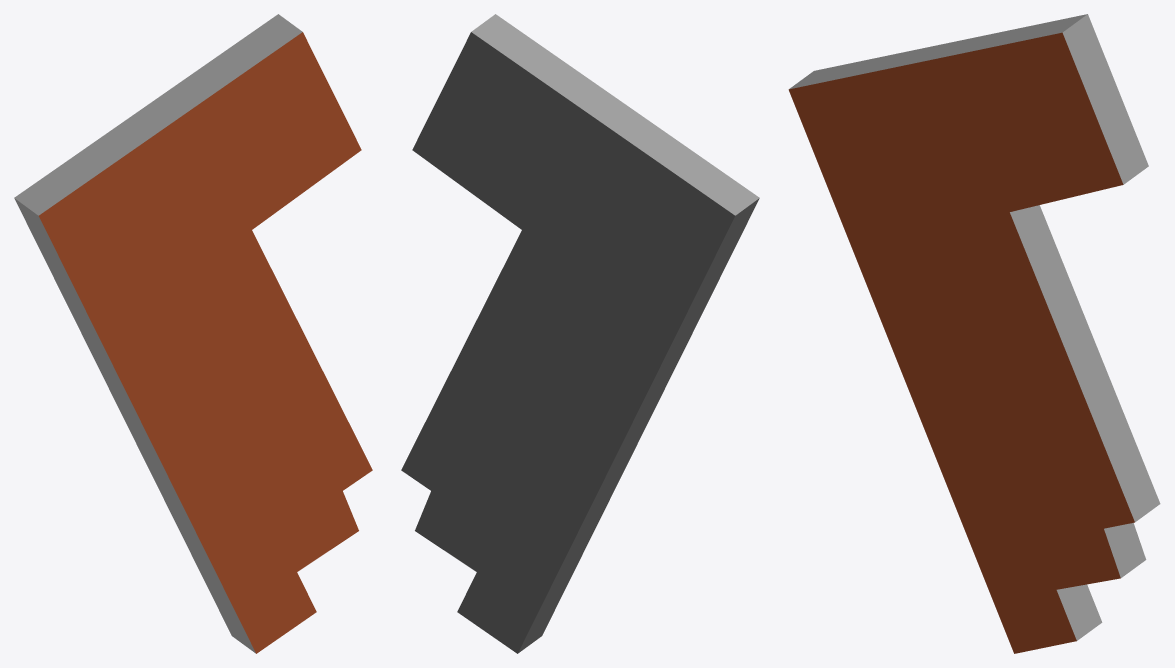
The model's file is construction_1355_assumed_A_Casa_h6m.obj.
3 renders of one model, left to right at view 1: azimuth 30°, elevation 25°; view 2: azimuth 150°, elevation 25°; view 3: azimuth 330°, elevation 25°, orthographic. The views are drawn at different scales.
Visible parts, largest first — view 1: construction_1355_assumed_A_Casa; view 2: construction_1355_assumed_A_Casa; view 3: construction_1355_assumed_A_Casa.
Boxes of the visible parts, box(x1,y1,x2,y2) form: construction_1355_assumed_A_Casa: box(14, 14, 372, 653); construction_1355_assumed_A_Casa: box(401, 14, 759, 653); construction_1355_assumed_A_Casa: box(788, 14, 1160, 653).
Bounding box in the file's own units: 47.23 × 82.45 × 6.
